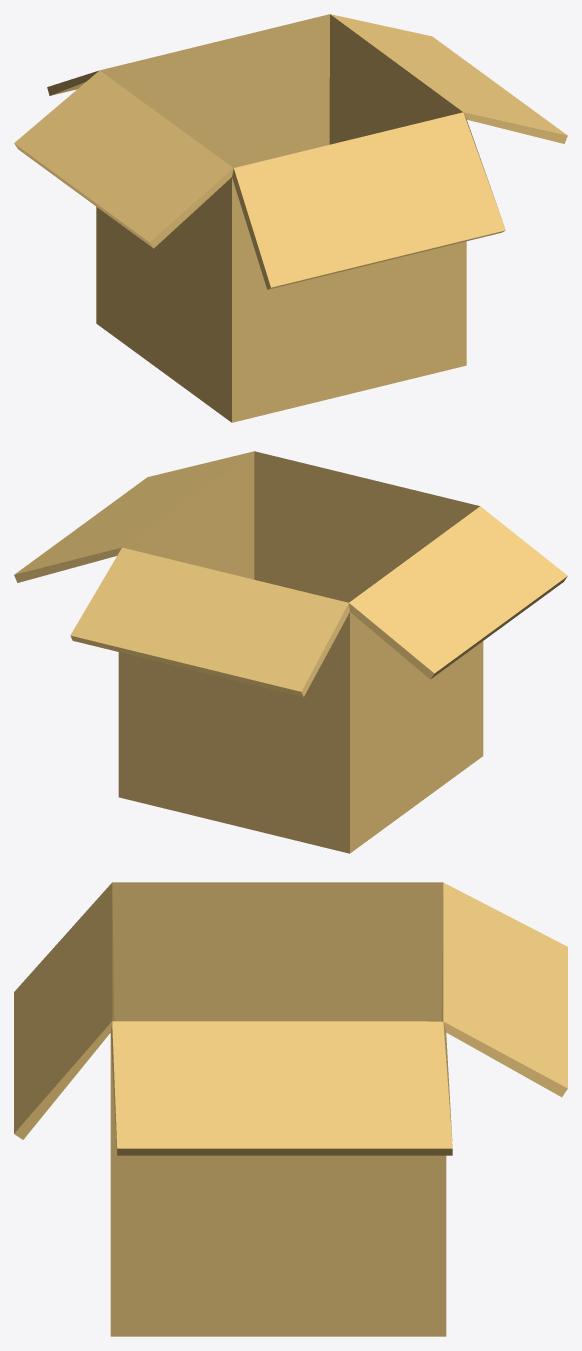
The picture shows the model from 3 angles, top to bottom: view 1: azimuth 30°, elevation 25°; view 2: azimuth 150°, elevation 25°; view 3: azimuth 270°, elevation 25°; orthographic projection. The views are drawn at different scales.
Visible parts, largest first — view 1: Box_01; view 2: Box_01; view 3: Box_01.
Boxes of the visible parts, bbox=[...] form: Box_01: bbox=[14, 14, 567, 422]; Box_01: bbox=[14, 451, 567, 853]; Box_01: bbox=[14, 882, 567, 1336].
Bounding box in the file's own units: 1.05 × 0.9658 × 0.6038.
